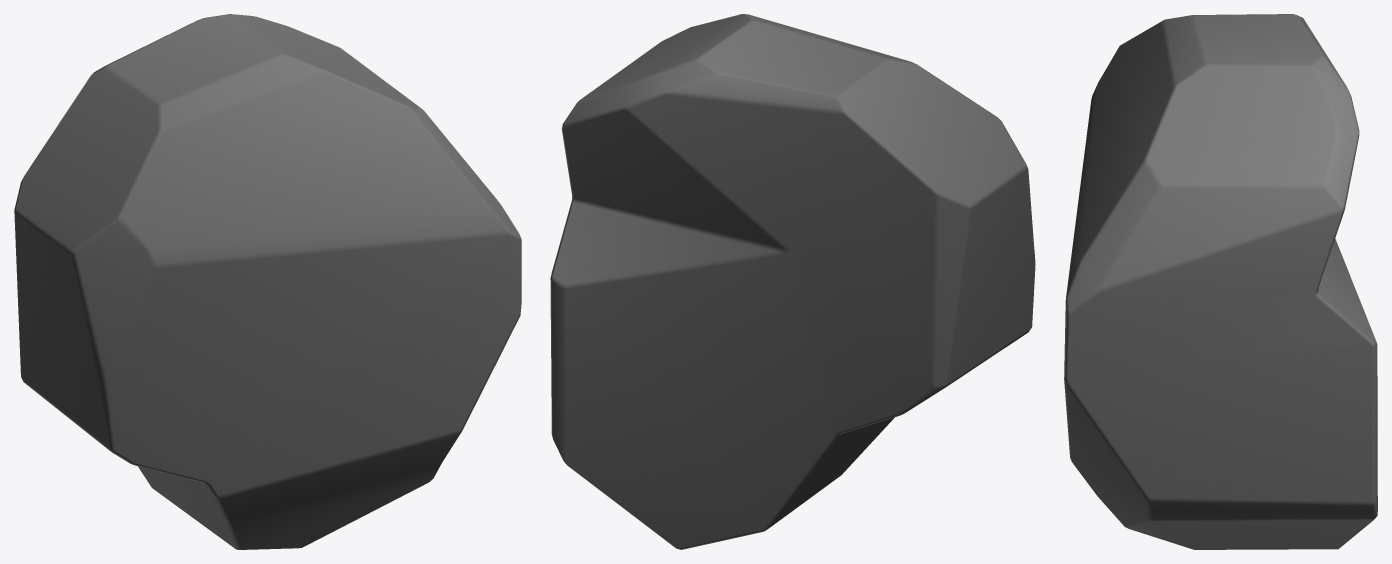
File: SM_rockCliff_dynamic_3.fbx
3 views of the same model, side by side, from view 1: azimuth 30°, elevation 25°; view 2: azimuth 150°, elevation 25°; view 3: azimuth 270°, elevation 25° (orthographic). The views are drawn at different scales.
Visible parts, largest first — view 1: SM_rockCliff_dynamic_3; view 2: SM_rockCliff_dynamic_3; view 3: SM_rockCliff_dynamic_3.
Part boxes in pixels (x1,y1,x2,y2): SM_rockCliff_dynamic_3: [14, 14, 521, 549]; SM_rockCliff_dynamic_3: [550, 14, 1035, 549]; SM_rockCliff_dynamic_3: [1064, 14, 1377, 549].
Size of the model in its own units: 107 by 122 by 71.99.
Materials: 1 (1 with a texture image).
